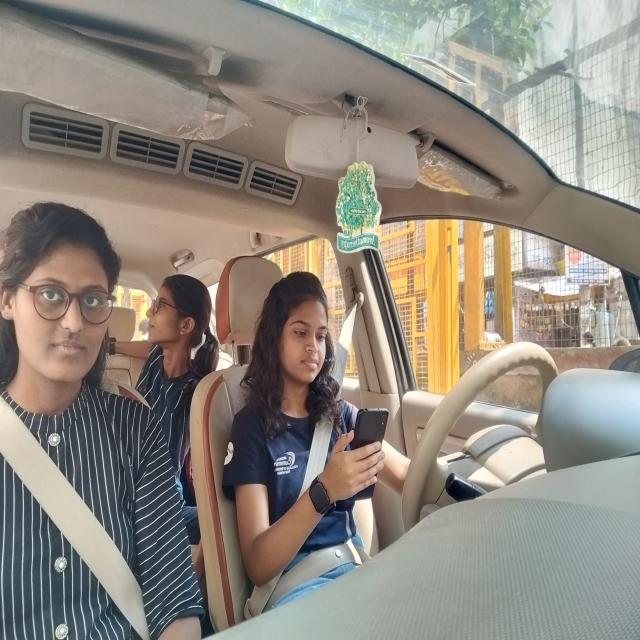mobile: (346, 400, 387, 492)
person: (7, 209, 124, 394), (258, 268, 330, 391), (148, 272, 206, 352)
